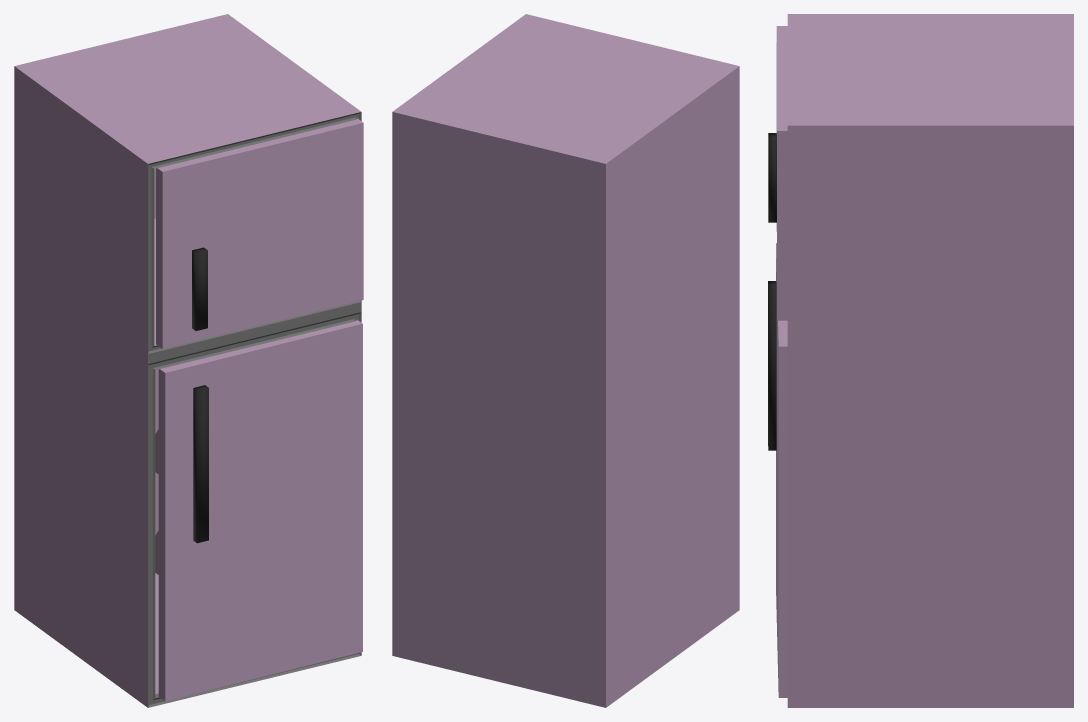
File: Refrigerator.fbx
The picture shows the model from 3 angles, left to right: view 1: azimuth 30°, elevation 25°; view 2: azimuth 150°, elevation 25°; view 3: azimuth 270°, elevation 25°; orthographic projection. The views are drawn at different scales.
Visible parts, largest first — view 1: Refrigerator; view 2: Refrigerator; view 3: Refrigerator.
Part boxes in pixels (x1=…): Refrigerator: x1=14, y1=14, x2=363, y2=707; Refrigerator: x1=392, y1=14, x2=739, y2=707; Refrigerator: x1=768, y1=14, x2=1073, y2=707.
Size of the model in its own units: 92.06 by 224 by 107.
